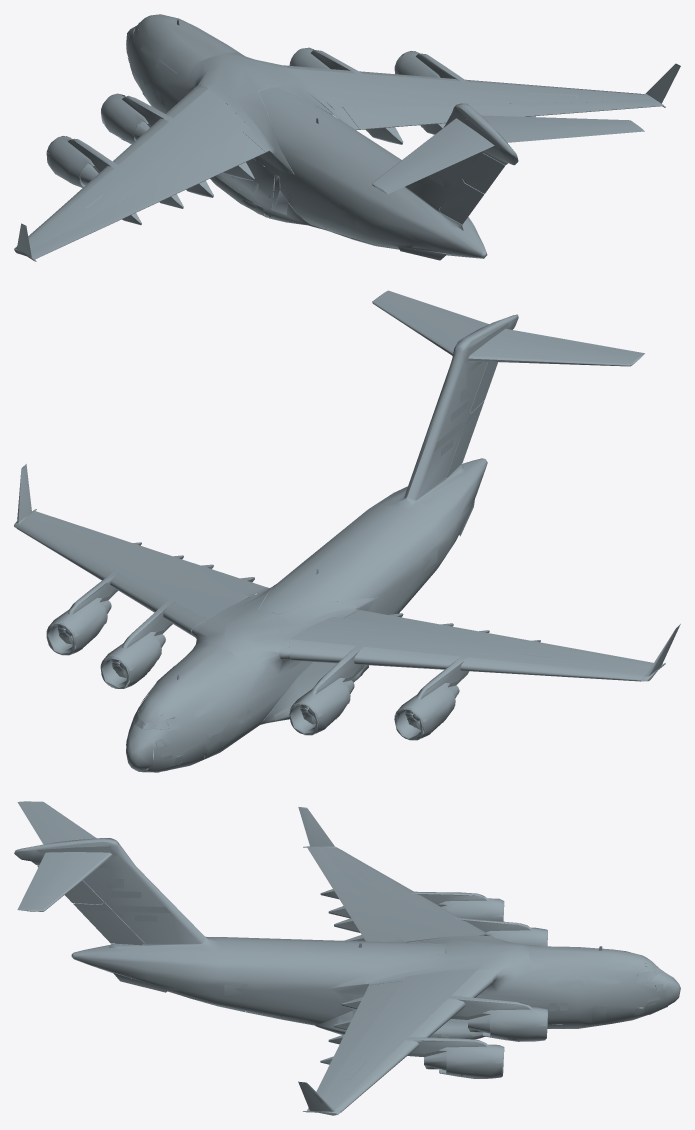
Rendered from model-aircraft-tp-2.glb.
3 renders of one model, top to bottom at view 1: azimuth 30°, elevation 25°; view 2: azimuth 150°, elevation 25°; view 3: azimuth 270°, elevation 25°, orthographic. The views are drawn at different scales.
Bounding box in the file's own units: 43.19 × 13.64 × 44.24.
